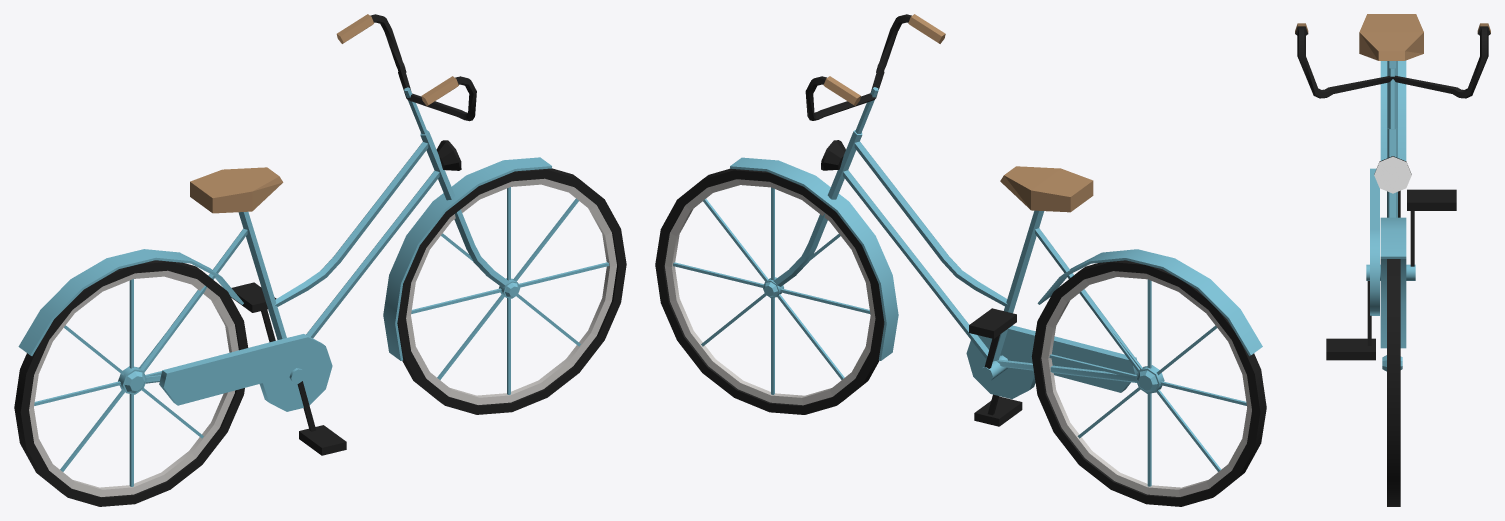
Rendered from SM_bike_blue.fbx.
3 views of the same model, side by side, from view 1: azimuth 30°, elevation 25°; view 2: azimuth 150°, elevation 25°; view 3: azimuth 270°, elevation 25° (orthographic). The views are drawn at different scales.
Visible parts, largest first — view 1: Box109; view 2: Box109; view 3: Box109.
Part boxes in pixels (bbox=[...]): Box109: bbox=[14, 14, 626, 506]; Box109: bbox=[655, 14, 1266, 506]; Box109: bbox=[1295, 14, 1490, 506].
Bounding box in the file's own units: 101 × 26.31 × 61.8.
